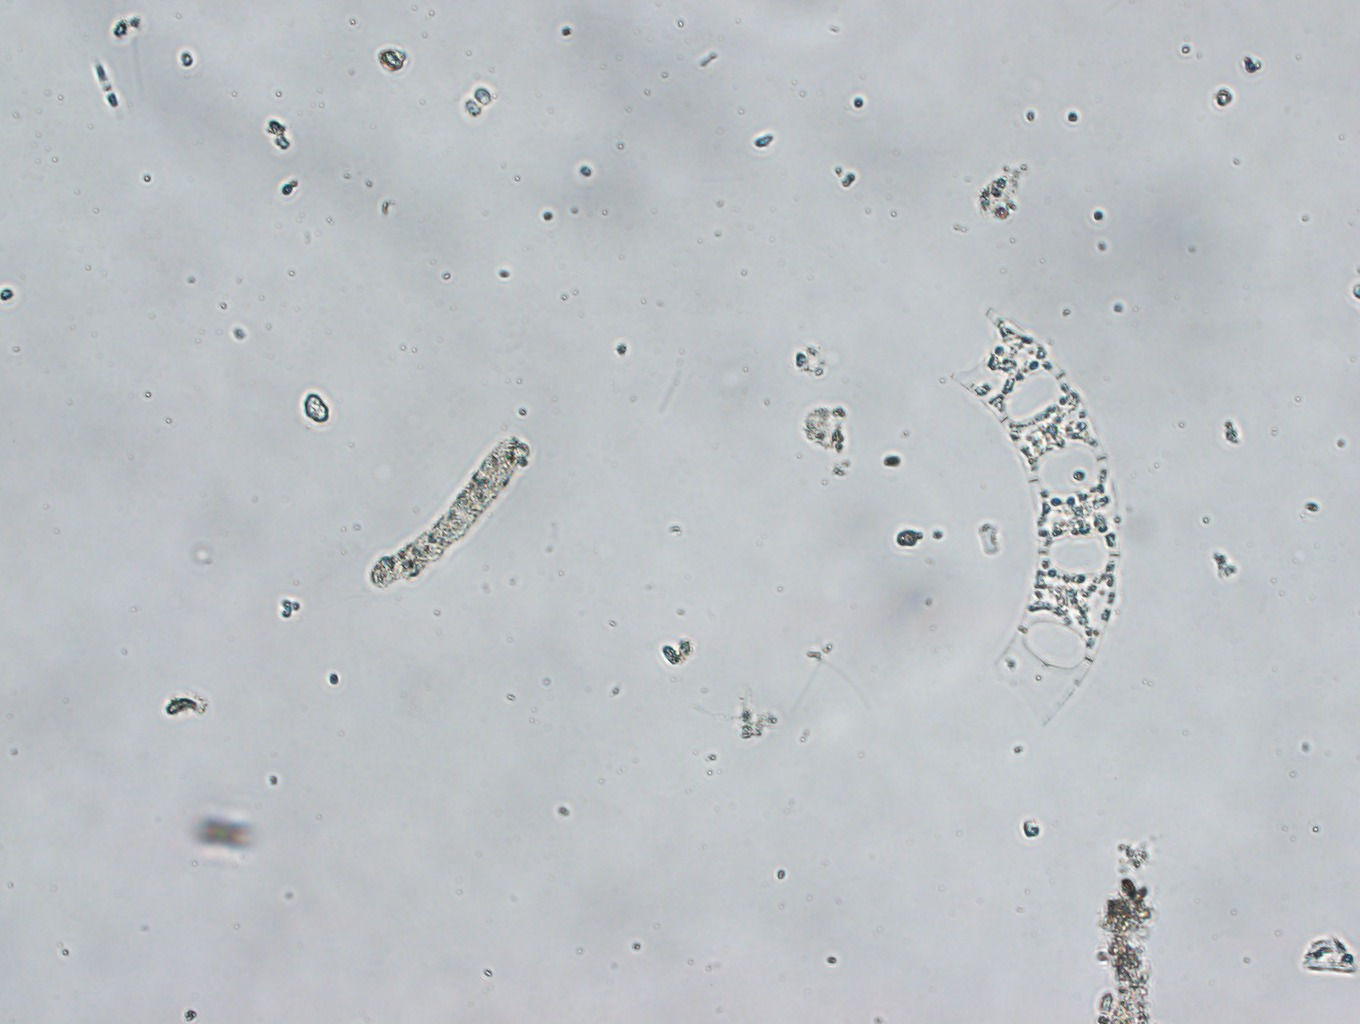eucampia: (924, 305, 1125, 734)
